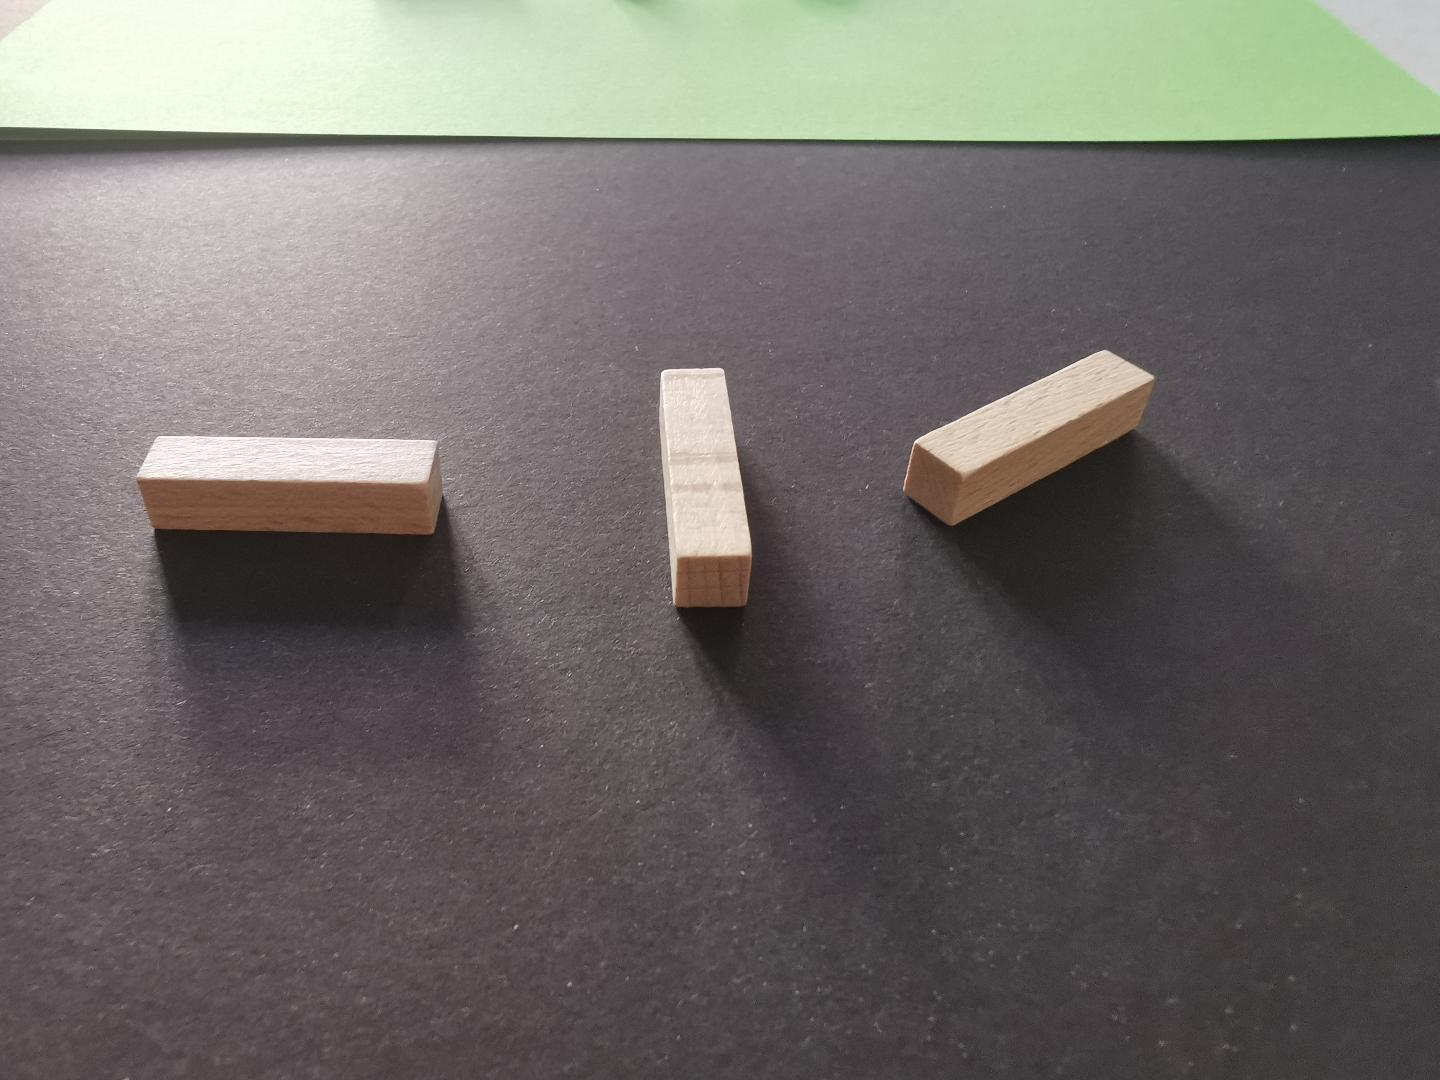jenga: (906, 352, 1153, 526), (138, 436, 441, 534), (661, 369, 751, 608)
